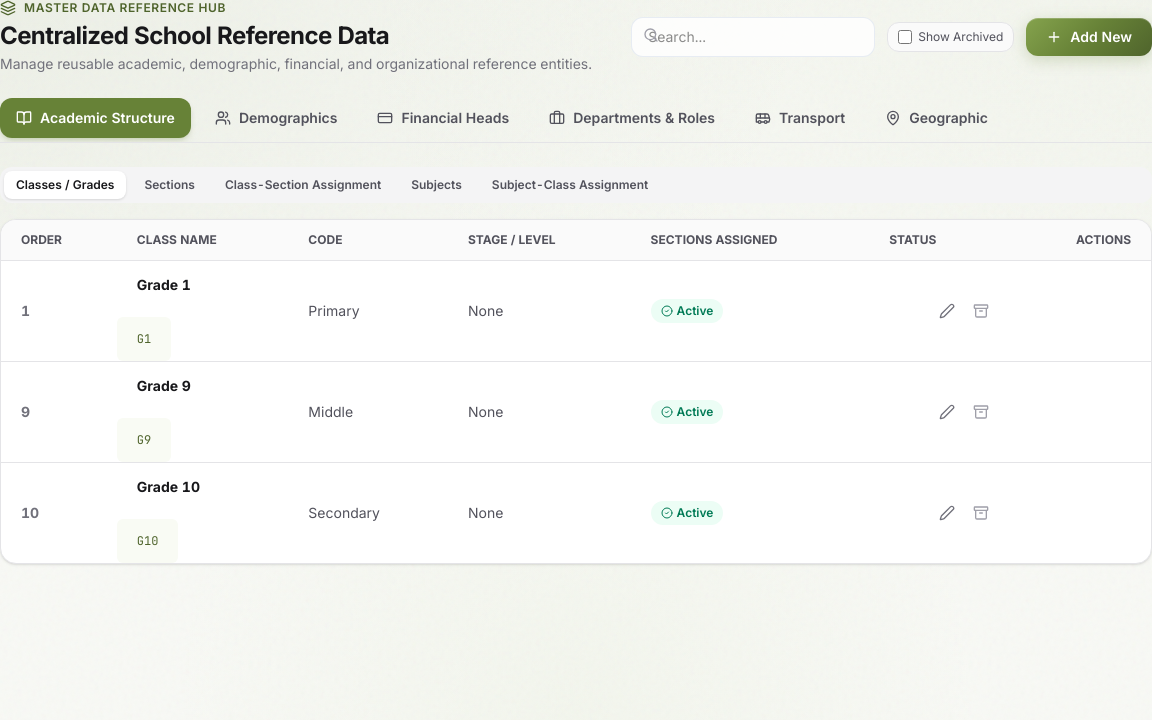
Test: MasterData Search and Filtering Unit Tests › shows clear search button (X) when search text is entered and clears on click
Type "Grade 10" into the field with placeholder "Search..." at (753, 37), box [631,17,875,57]
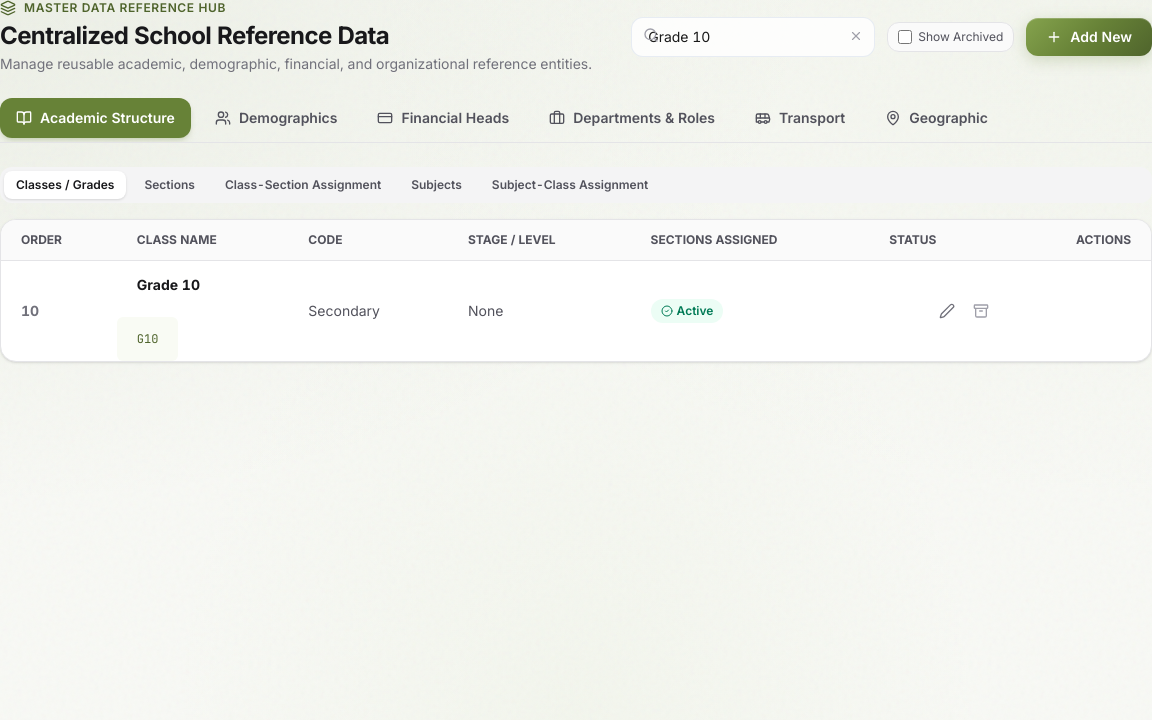
Expected: the button named "Clear search" is shown
Click the button named "Clear search" at (856, 36), box [847,27,865,45]
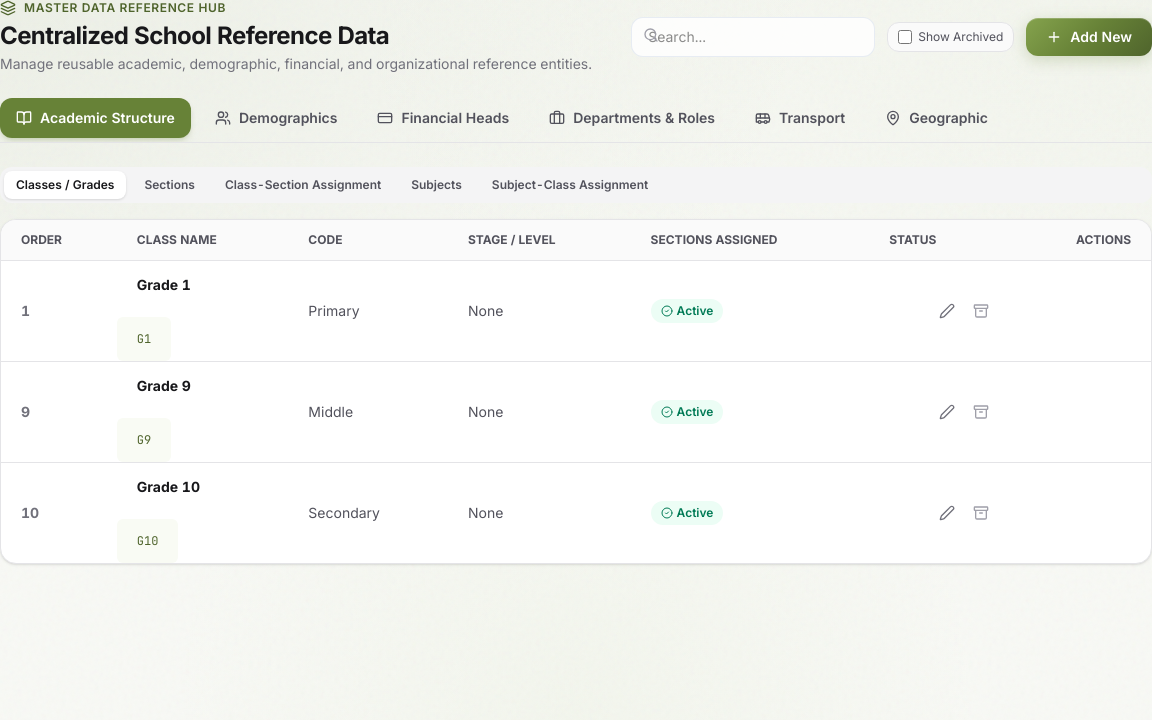
Expected: the text "Grade 1" is shown, [137,275,191,295]
Expected: the field with placeholder "Search..." is empty, [631,17,875,57]
